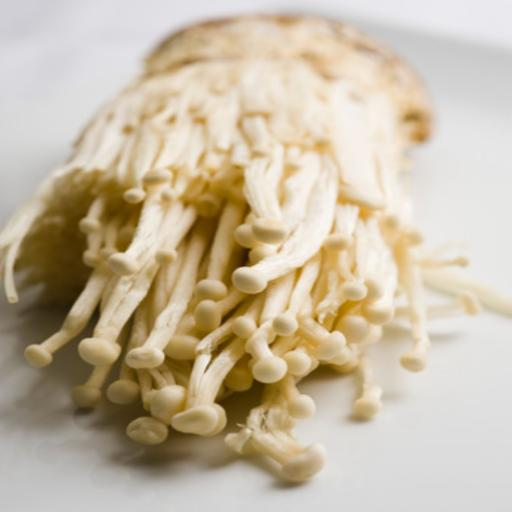Enoki Mushroom: (1, 13, 436, 489)
